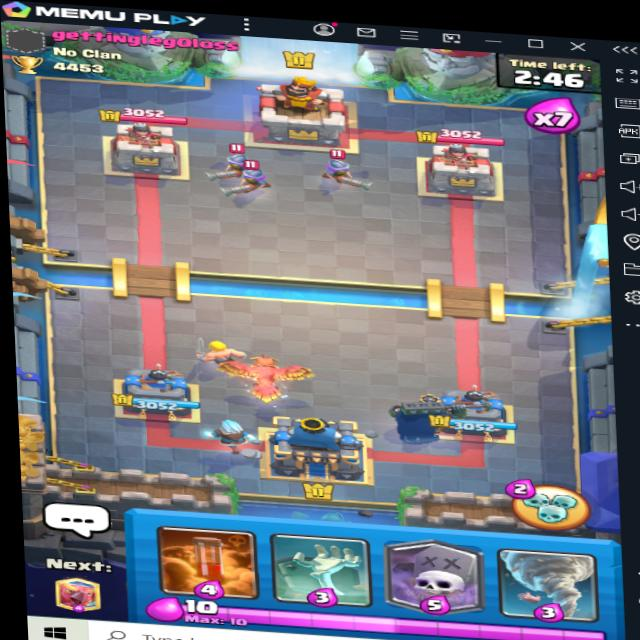musketeer: (318, 146, 374, 192), (202, 141, 261, 184), (224, 156, 274, 202)
